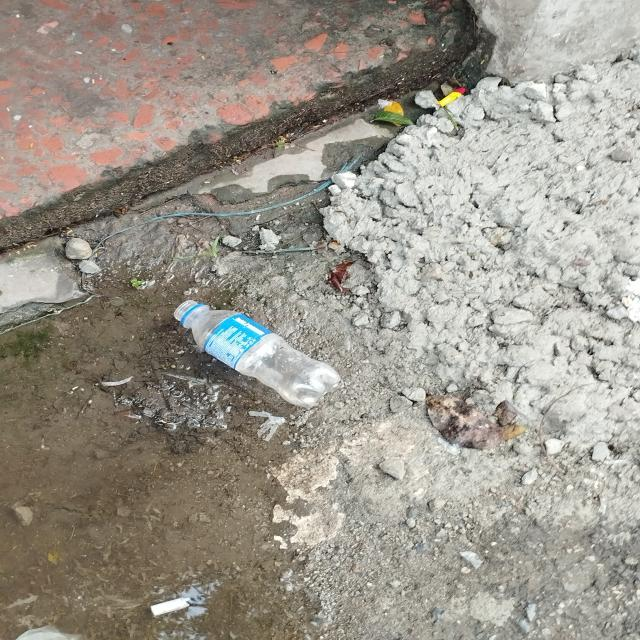plastic: (173, 299, 344, 412)
